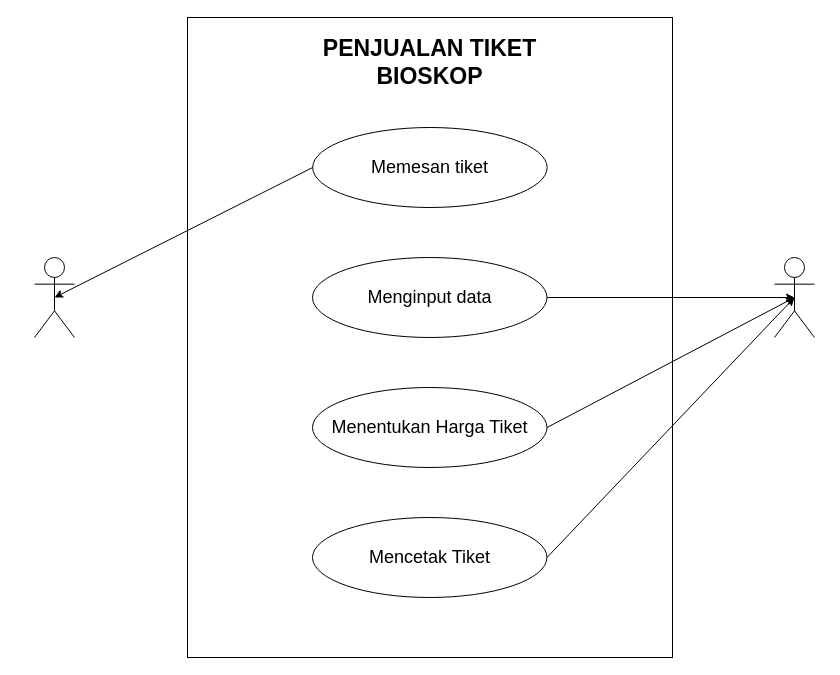
Image size: 840x675. Some labels were removed from this diagram. The shapes that lost their labels are listed below. From the top down, each one's centre as x and y in pixels, then its label:
[54,297]: PELANGGAN
[794,297]: PETUGAS
